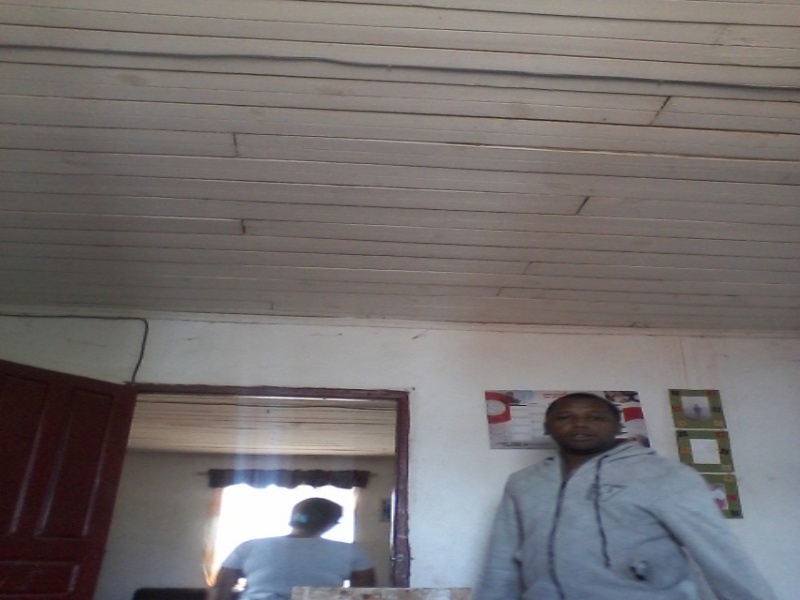TsisyArotava: (545, 389, 627, 469)
